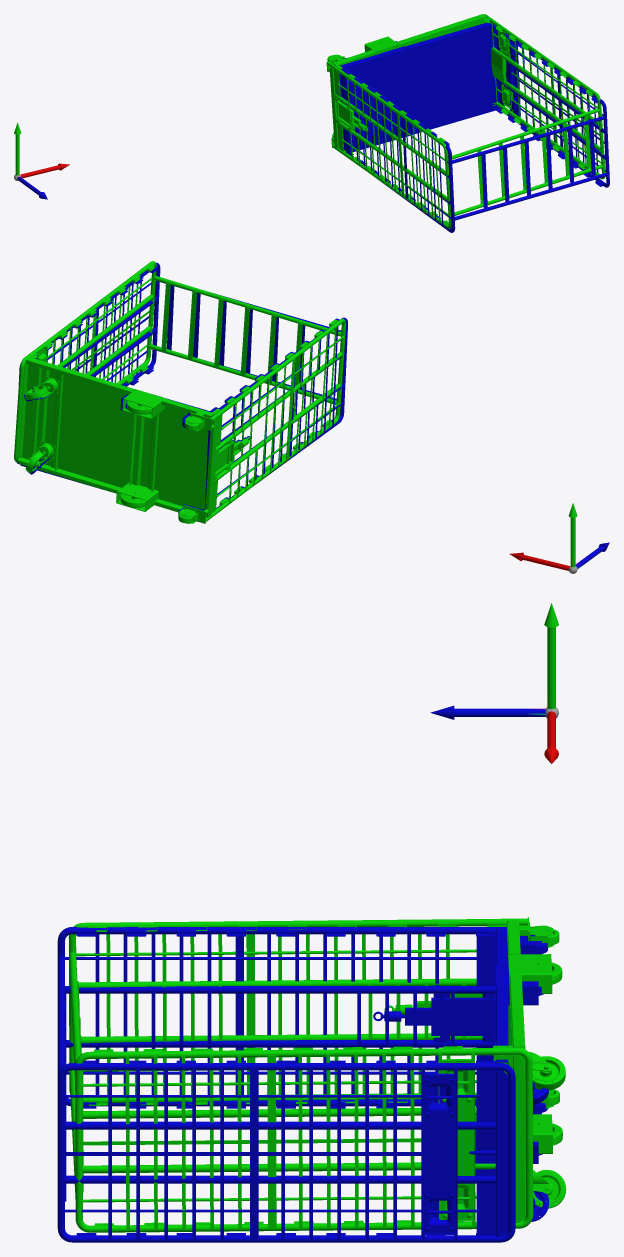
Rendered from combined_scene_sample_316.glb.
3 renders of one model, top to bottom at view 1: azimuth 30°, elevation 25°; view 2: azimuth 150°, elevation 25°; view 3: azimuth 270°, elevation 25°, orthographic. The views are drawn at different scales.
Parts seen in each view (by area): view 1: gt, pred, frame; view 2: pred, gt, frame; view 3: gt, pred, frame.
Part boxes in pixels (left/top/right/bottom): gt: left=334, top=22, right=609, bottom=232; pred: left=326, top=14, right=605, bottom=228; frame: left=14, top=122, right=69, bottom=199; pred: left=14, top=261, right=346, bottom=523; gt: left=16, top=262, right=347, bottom=515; frame: left=510, top=503, right=609, bottom=573; gt: left=57, top=927, right=549, bottom=1242; pred: left=68, top=917, right=566, bottom=1232; frame: left=430, top=603, right=558, bottom=763.
Bounding box in the file's own units: 4.5 × 0.9108 × 2.09.
